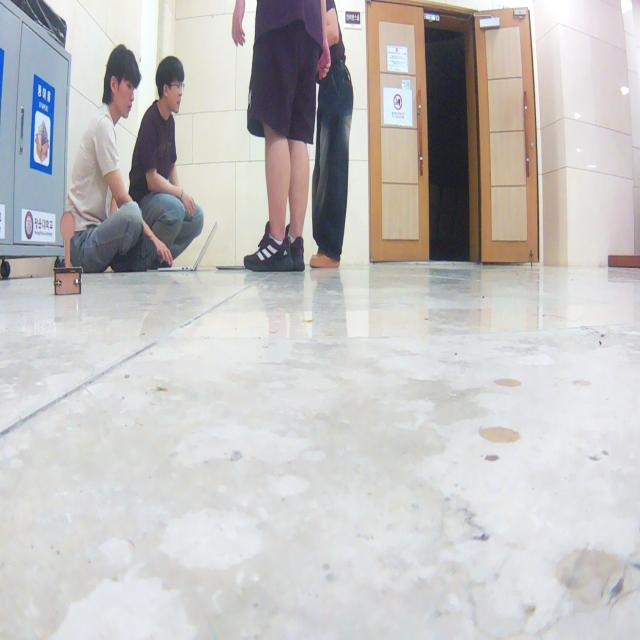target: (53, 209, 83, 296)
